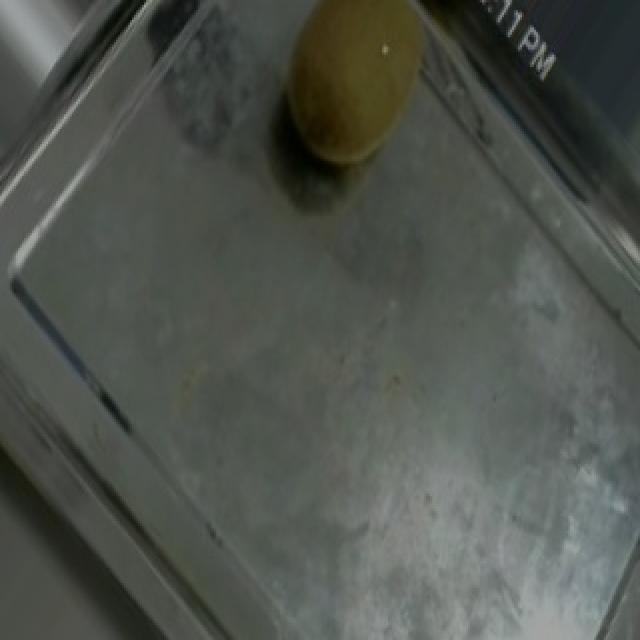Fruit: (244, 0, 466, 201)
